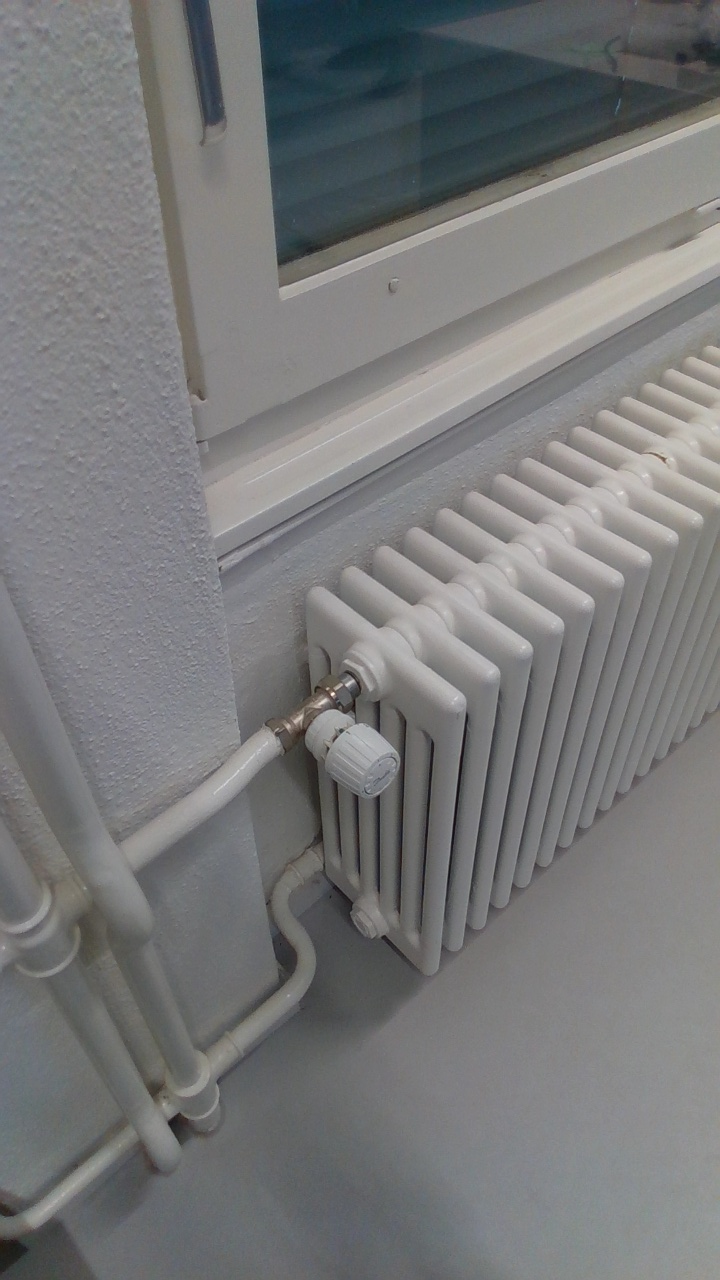Knob_Radiator: (284, 692, 410, 810)
Radiator: (296, 318, 718, 983)
